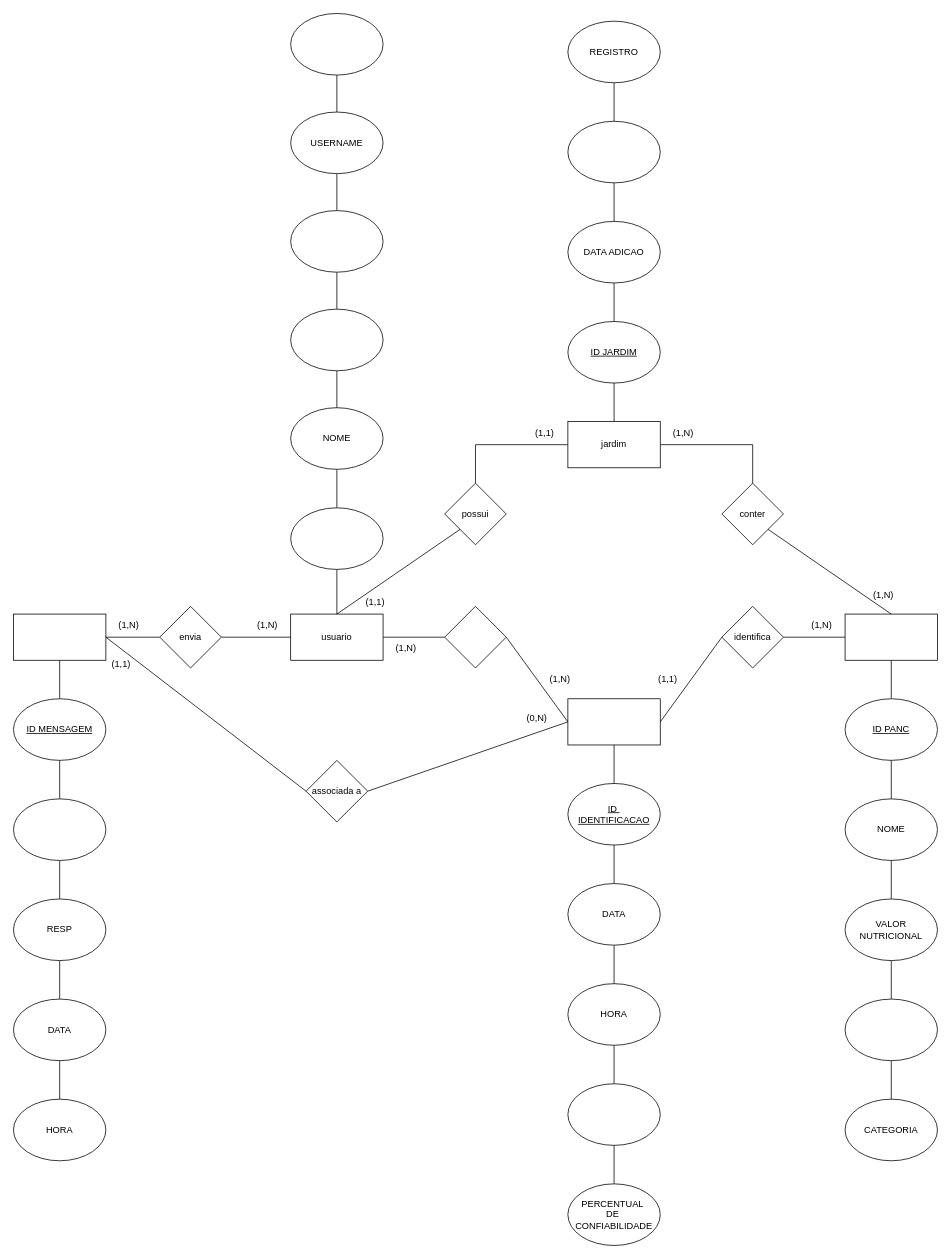
Some shapes in this 951 by 1259 pixel diagram are drawn without their labels. Each missing label, with the centre of its shape:
EMAIL: the point at 336,339
HISTORICO: the point at 336,241
ID: the point at 336,538
identificacao: the point at 613,721
INFORMACOES: the point at 890,1029
mensagem/chat: the point at 59,636
PADRAO: the point at 613,1114
PANC: the point at 890,636
QUANTIDADE: the point at 613,152
realiza: the point at 475,637
SENHA: the point at 336,44
TEXT (PERGUNTA): the point at 59,829
